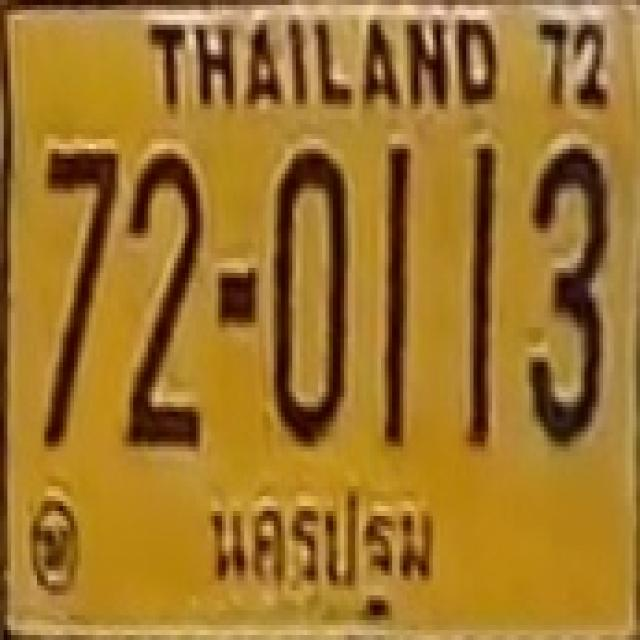0: (270, 146, 344, 439)
1: (459, 141, 499, 450), (383, 144, 409, 448)
2: (121, 142, 209, 456)
3: (525, 141, 607, 439)
7: (32, 146, 118, 452)
NPT: (201, 483, 444, 634)
